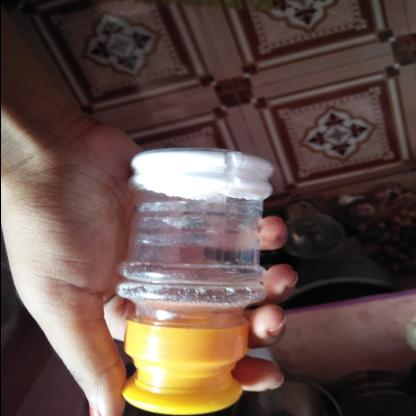bottle: (57, 212, 416, 332)
